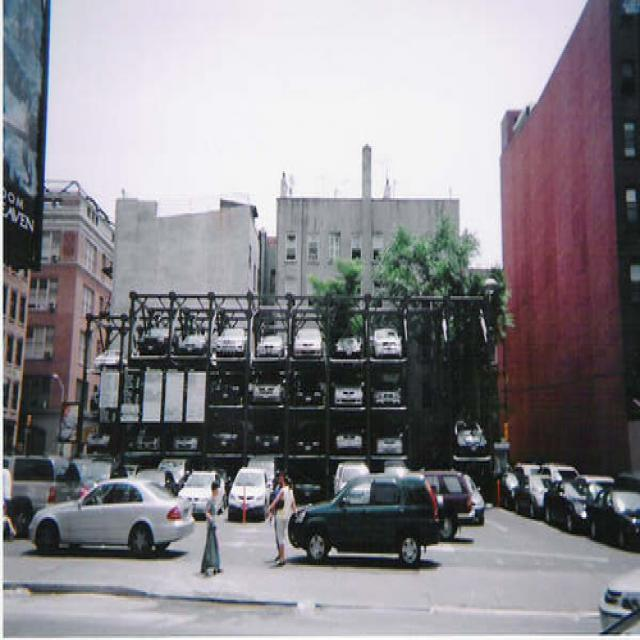Car: (285, 463, 441, 566), (30, 486, 200, 561), (226, 458, 276, 522), (256, 320, 291, 361), (292, 321, 328, 357), (140, 322, 178, 354), (176, 326, 212, 358), (371, 324, 404, 357), (331, 381, 366, 410), (329, 334, 366, 361), (373, 383, 409, 409), (217, 324, 250, 352), (252, 382, 286, 406)
